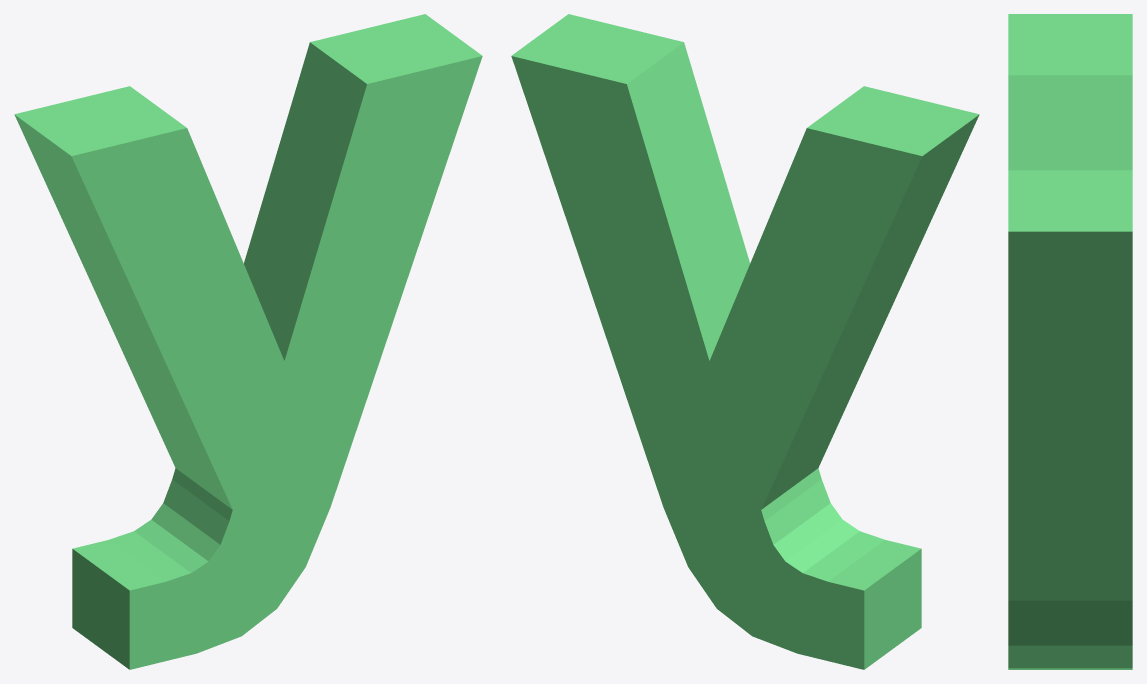
File: huruf_kecil_y.glb
3 renders of one model, left to right at view 1: azimuth 30°, elevation 25°; view 2: azimuth 150°, elevation 25°; view 3: azimuth 270°, elevation 25°, orthographic. The views are drawn at different scales.
Visible parts, largest first — view 1: geometry_0; view 2: geometry_0; view 3: geometry_0.
Part boxes in pixels (x1,y1,x2,y2): geometry_0: (14, 14, 482, 669); geometry_0: (511, 14, 979, 669); geometry_0: (1008, 14, 1132, 669).
Bounding box in the file's own units: 6.22 × 7.63 × 1.5.
